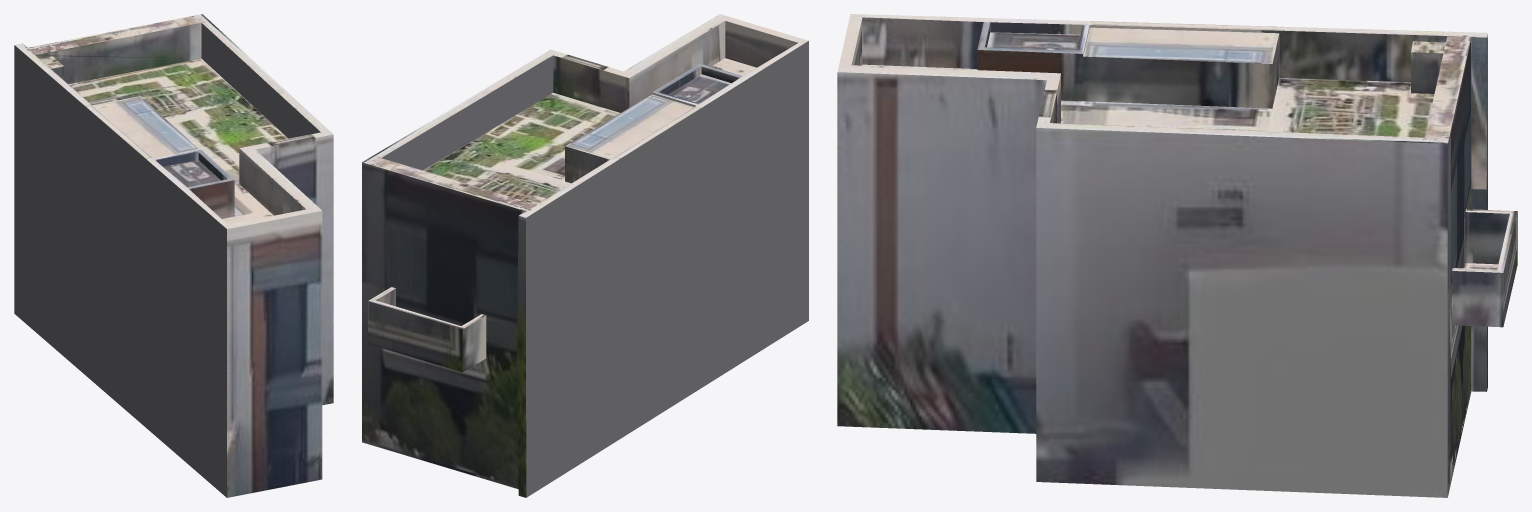
The picture shows the model from 3 angles, left to right: view 1: azimuth 30°, elevation 25°; view 2: azimuth 150°, elevation 25°; view 3: azimuth 270°, elevation 25°; orthographic projection. The views are drawn at different scales.
Parts seen in each view (by area): view 1: B284694037701062A0; view 2: B284694037701062A0; view 3: B284694037701062A0.
Part boxes in pixels (<box>): B284694037701062A0: <box>14,14,333,497</box>; B284694037701062A0: <box>362,14,808,497</box>; B284694037701062A0: <box>837,14,1517,497</box>.
Size of the model in its own units: 7.32 by 9.3 by 16.19.
1 material, 1 textured.
